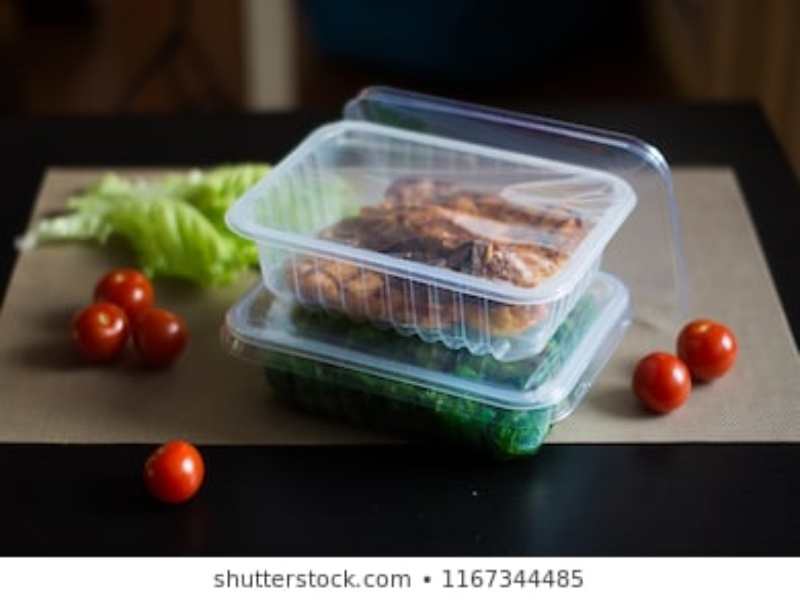plastic-container: (222, 116, 637, 359), (217, 273, 643, 455)
